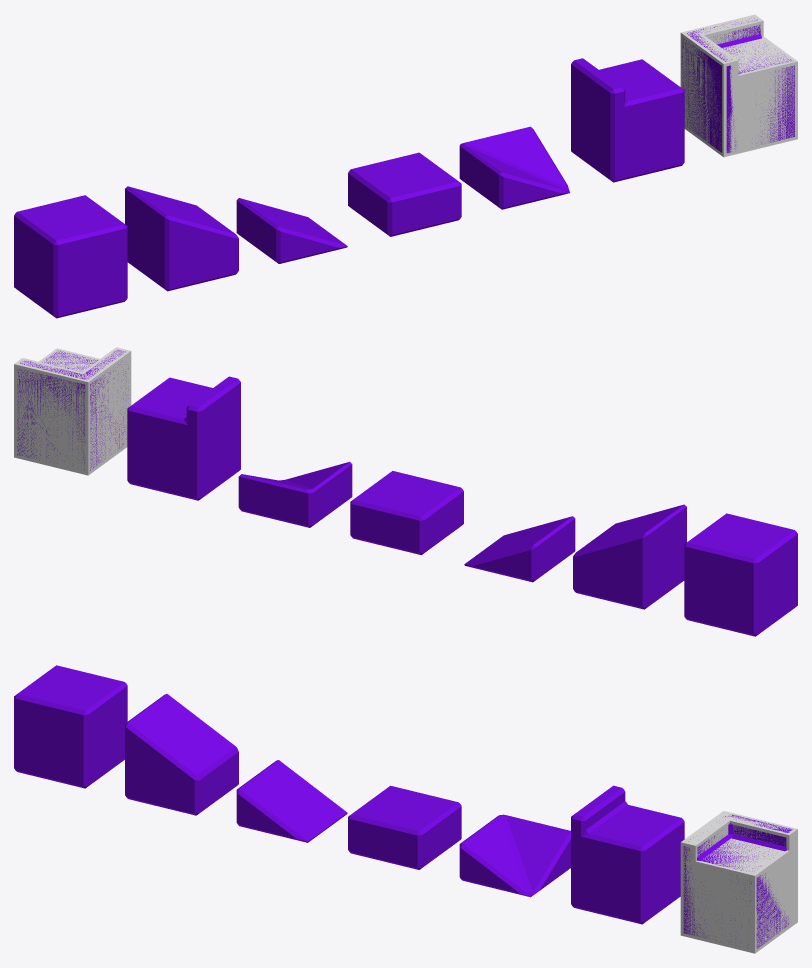
The model's file is world-blocks-v1.glb.
The picture shows the model from 3 angles, top to bottom: view 1: azimuth 30°, elevation 25°; view 2: azimuth 150°, elevation 25°; view 3: azimuth 330°, elevation 25°; orthographic projection.
Visible parts, largest first — view 1: BlockWallCorner.colonly, BlockWall, Block, RampTop, BlockShort, RampLowerCorner, BlockWallCorner, RampBottom; view 2: BlockWallCorner.colonly, BlockWall, Block, RampTop, BlockShort, RampLowerCorner, RampBottom, BlockWallCorner; view 3: BlockWallCorner.colonly, BlockWall, Block, RampTop, BlockShort, RampLowerCorner, RampBottom, BlockWallCorner.
Part boxes in pixels (x1,y1,x2,y2): BlockWallCorner.colonly: (680,14,797,157); BlockWall: (571,58,684,182); Block: (14,195,127,318); RampTop: (125,186,238,291); BlockShort: (348,152,461,236); RampLowerCorner: (459,126,569,209); BlockWallCorner: (682,19,794,153); RampBottom: (236,198,347,263); BlockWallCorner.colonly: (14,347,131,475); BlockWall: (127,376,240,500); Block: (684,513,797,636); RampTop: (573,504,686,609); BlockShort: (350,471,463,554); RampLowerCorner: (238,461,352,527); RampBottom: (464,516,575,582); BlockWallCorner: (17,350,128,470); BlockWallCorner.colonly: (680,811,797,953); BlockWall: (571,785,684,924); Block: (14,665,127,788); RampTop: (125,694,238,815); BlockShort: (348,785,461,869); RampLowerCorner: (459,814,570,897); RampBottom: (236,760,347,842); BlockWallCorner: (683,815,792,948).
Size of what is drawn, in the model's own units: 19.99 by 2.4 by 2.
